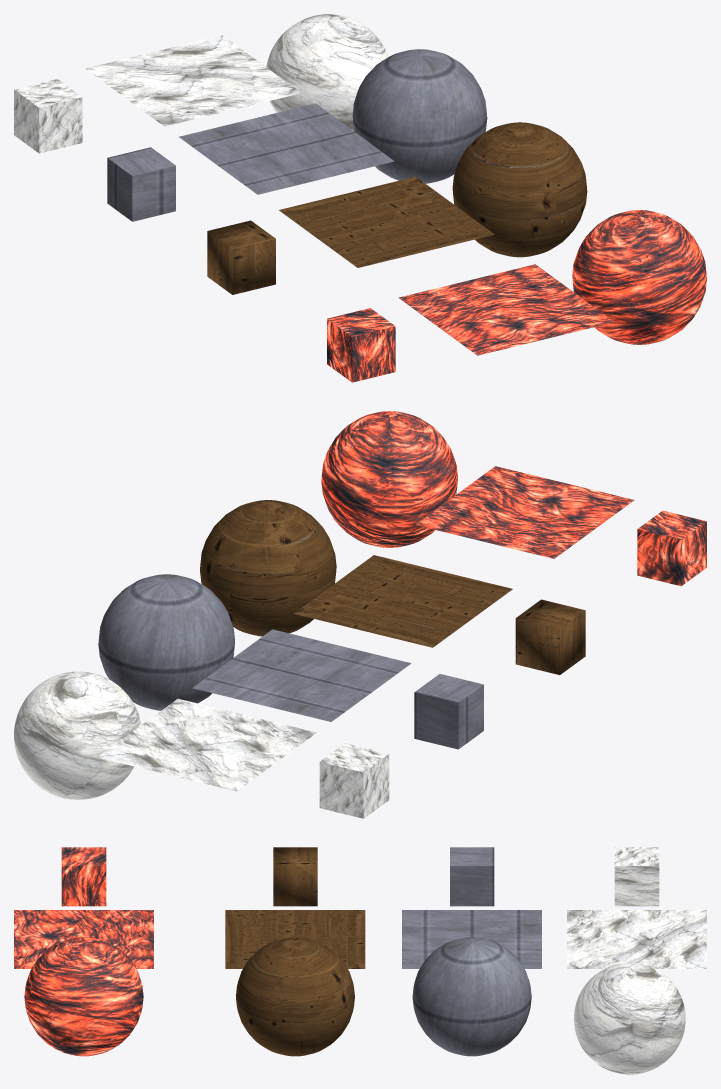
Rendered from texture test_min Desplacement.gltf.
3 renders of one model, top to bottom at view 1: azimuth 30°, elevation 25°; view 2: azimuth 150°, elevation 25°; view 3: azimuth 270°, elevation 25°, orthographic. The views are drawn at different scales.
Parts seen in each view (by area): view 1: Sphere, Sphere.002, Pipe, Plane.003, Plane, Plane.002, Plane.001, Sphere.001, Cube.001, Cube, Cube.003, Cube.002; view 2: Sphere.002, Pipe, Sphere, Sphere.001, Plane.002, Plane.003, Plane.001, Plane, Cube, Cube.003, Cube.001, Cube.002; view 3: Sphere.002, Pipe, Sphere, Sphere.001, Plane.003, Plane, Plane.002, Plane.001, Cube.002, Cube.003, Cube, Cube.001.
Part boxes in pixels (bbox=[...]): Sphere: bbox=[452, 122, 587, 257]; Sphere.002: bbox=[572, 210, 706, 344]; Pipe: bbox=[352, 49, 487, 183]; Plane.003: bbox=[85, 35, 301, 126]; Plane: bbox=[279, 176, 494, 267]; Plane.002: bbox=[398, 264, 614, 355]; Plane.001: bbox=[179, 103, 394, 194]; Sphere.001: bbox=[266, 14, 388, 130]; Cube.001: bbox=[107, 147, 175, 221]; Cube: bbox=[207, 220, 275, 294]; Cube.003: bbox=[14, 79, 82, 153]; Cube.002: bbox=[327, 308, 395, 382]; Sphere.002: bbox=[321, 411, 457, 547]; Pipe: bbox=[98, 574, 234, 710]; Sphere: bbox=[200, 500, 336, 636]; Sphere.001: bbox=[14, 671, 141, 799]; Plane.002: bbox=[415, 466, 634, 558]; Plane.003: bbox=[97, 698, 316, 791]; Plane.001: bbox=[192, 629, 411, 721]; Plane: bbox=[294, 555, 512, 647]; Cube: bbox=[515, 599, 585, 674]; Cube.003: bbox=[319, 743, 389, 818]; Cube.001: bbox=[414, 674, 483, 749]; Cube.002: bbox=[637, 510, 706, 586]; Sphere.002: bbox=[24, 937, 143, 1056]; Pipe: bbox=[412, 937, 531, 1056]; Sphere: bbox=[236, 937, 354, 1056]; Sphere.001: bbox=[574, 963, 685, 1074]; Plane.003: bbox=[567, 910, 706, 968]; Plane: bbox=[225, 910, 365, 968]; Plane.002: bbox=[14, 910, 153, 968]; Plane.001: bbox=[402, 910, 541, 968]; Cube.002: bbox=[61, 847, 106, 906]; Cube.003: bbox=[614, 847, 659, 906]; Cube: bbox=[273, 847, 317, 906]; Cube.001: bbox=[450, 847, 494, 906].
Bounding box in the file's own units: 16.45 × 6.32 × 31.17.
Materials: 4 (4 with a texture image).
